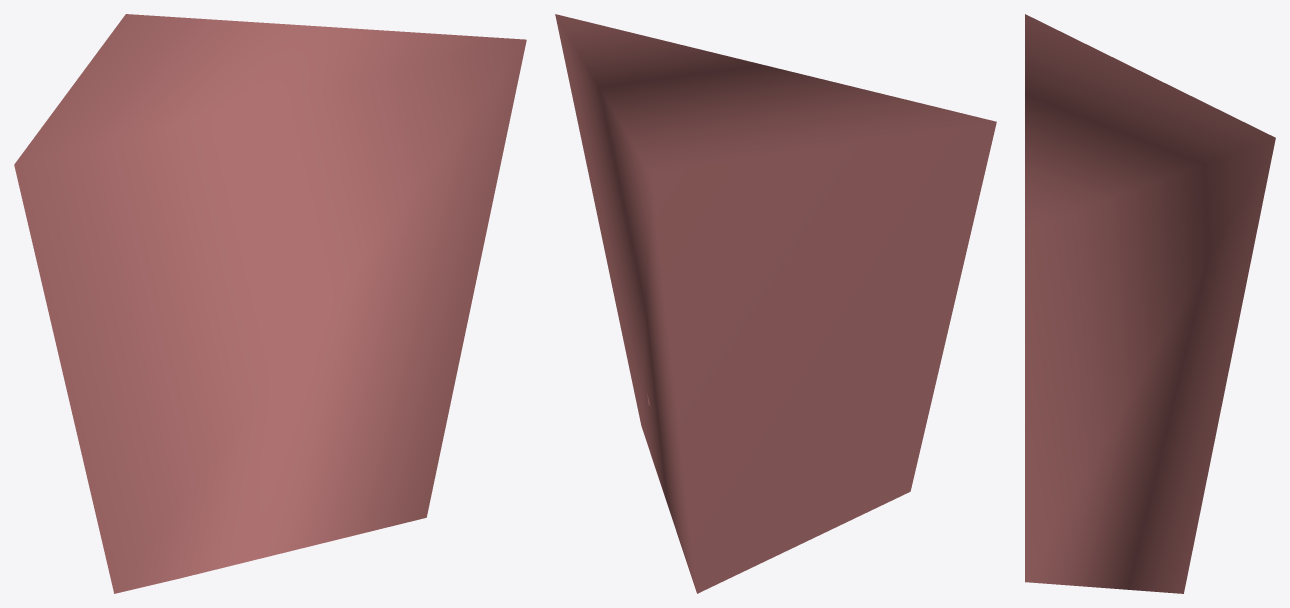
File: pinger_plate_motor_center_scaled.dae
The picture shows the model from 3 angles, left to right: view 1: azimuth 30°, elevation 25°; view 2: azimuth 150°, elevation 25°; view 3: azimuth 270°, elevation 25°; orthographic projection. The views are drawn at different scales.
Parts seen in each view (by area): view 1: pinger_plate_motor_center_scaled; view 2: pinger_plate_motor_center_scaled; view 3: pinger_plate_motor_center_scaled.
Part boxes in pixels (x1,y1,x2,y2): pinger_plate_motor_center_scaled: [14, 14, 526, 593]; pinger_plate_motor_center_scaled: [555, 14, 996, 593]; pinger_plate_motor_center_scaled: [1025, 14, 1275, 593].
Size of the model in its own units: 1.42 by 0.6951 by 1.44.
